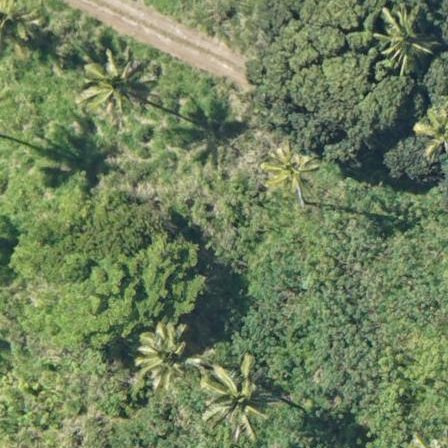palm_tree: (199, 355, 277, 439), (76, 43, 153, 125), (131, 319, 199, 392), (372, 8, 433, 65), (262, 146, 319, 197), (410, 102, 448, 160)
